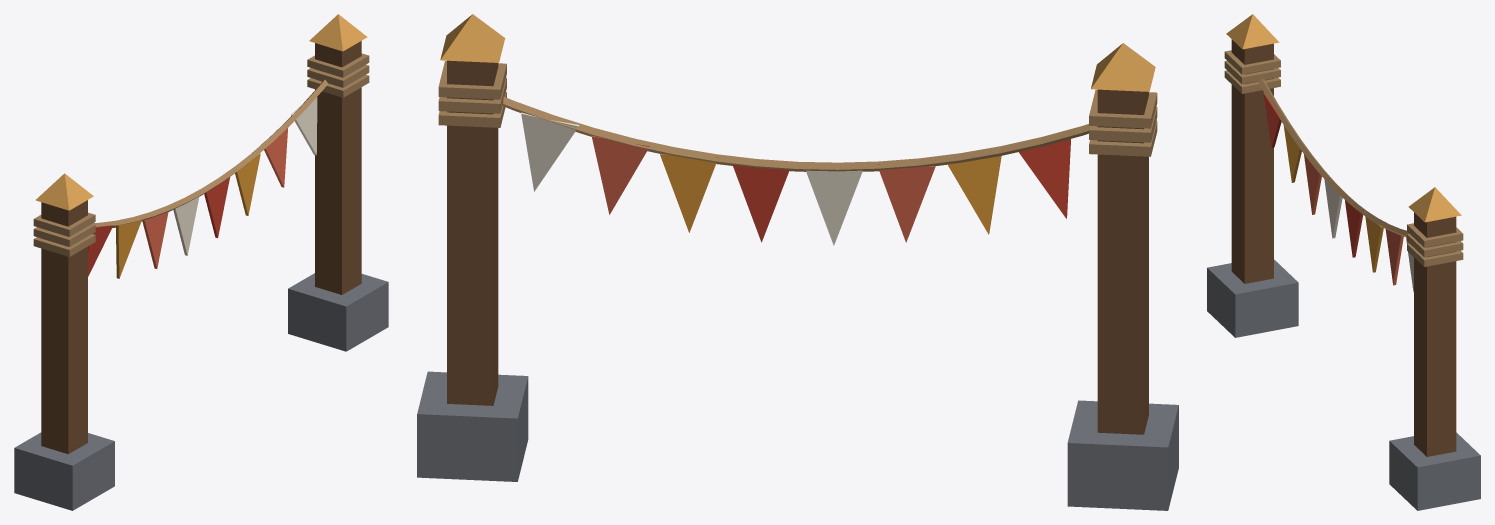
File: festival bunting_flag.fbx
3 renders of one model, left to right at view 1: azimuth 30°, elevation 25°; view 2: azimuth 150°, elevation 25°; view 3: azimuth 270°, elevation 25°, orthographic. The views are drawn at different scales.
Visible parts, largest first — view 1: Bunting_Flag_0; view 2: Bunting_Flag_0; view 3: Bunting_Flag_0.
Boxes of the visible parts, x1,y1,x2,y2 form: Bunting_Flag_0: (14,14,388,510); Bunting_Flag_0: (417,14,1178,510); Bunting_Flag_0: (1207,14,1480,510).
Size of the model in its own units: 470 by 315 by 257.
